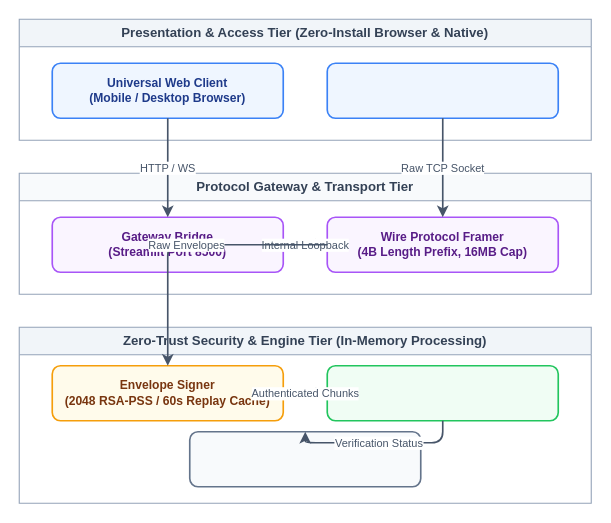
Image size: 611x523. Some labels were removed from this diagram. Each missing label, with the centre of its shape:
"Merkle Tree Verifier (RFC 6962 Domain-Separated)" belongs at [442,392].
"Native Headless Node (Python CLI Background Daemon)" belongs at [442,90].
"Reputation Engine (Score 0-100, Quarantine Q(P,R_F))" belongs at [304,458].
